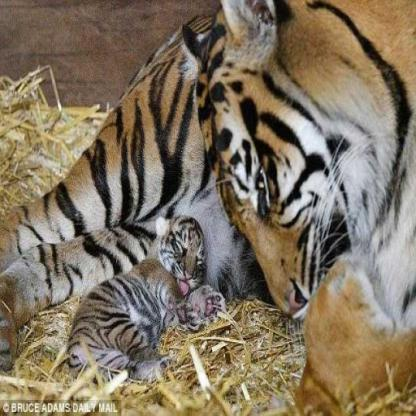Tiger: (3, 0, 415, 403), (78, 203, 228, 375)
